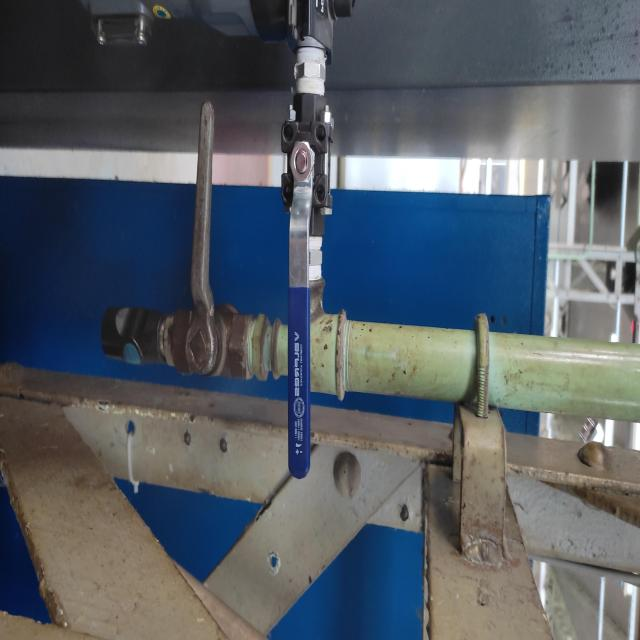closed_valve: (168, 94, 254, 383)
opened_valve: (278, 100, 333, 482)
